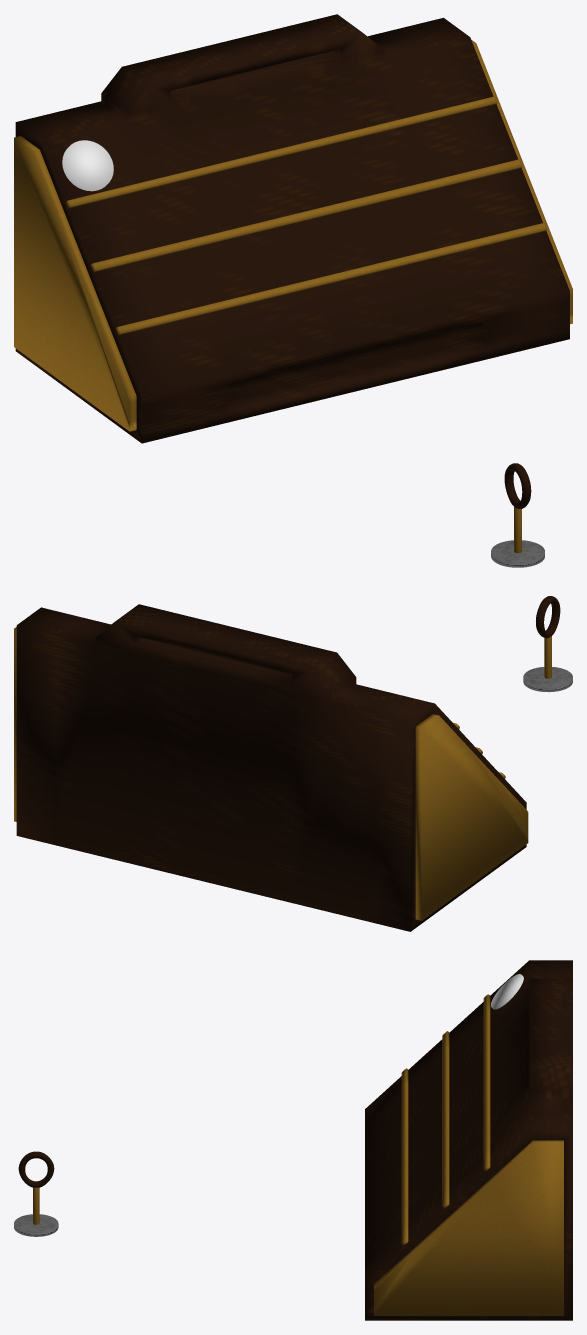
The model's file is Stamp and stampholder2.glb.
The picture shows the model from 3 angles, top to bottom: view 1: azimuth 30°, elevation 25°; view 2: azimuth 150°, elevation 25°; view 3: azimuth 270°, elevation 25°; orthographic projection. The views are drawn at different scales.
Parts seen in each view (by area): view 1: Cube, Cube.002, Cube.001, Cylinder.003, Cube.003, Cylinder, Torus; view 2: Cube, Cube.002, Cylinder, Torus, Cube.003; view 3: Cube, Cube.003, Cube.001, Cylinder, Torus, Cylinder.003.
Boxes of the visible parts, left/top/right/bottom form: Cube: left=15, top=14, right=569, bottom=443; Cube.002: left=14, top=136, right=136, bottom=431; Cube.001: left=66, top=96, right=546, bottom=335; Cylinder.003: left=62, top=140, right=113, bottom=191; Cube.003: left=471, top=39, right=572, bottom=324; Cylinder: left=491, top=540, right=544, bottom=567; Torus: left=504, top=463, right=531, bottom=508; Cube: left=16, top=604, right=526, bottom=931; Cube.002: left=415, top=714, right=528, bottom=920; Cylinder: left=523, top=667, right=572, bottom=692; Torus: left=536, top=596, right=560, bottom=638; Cube.003: left=14, top=627, right=16, bottom=821; Cube: left=365, top=960, right=572, bottom=1320; Cube.003: left=374, top=1140, right=563, bottom=1315; Cube.001: left=401, top=994, right=490, bottom=1245; Cylinder: left=14, top=1214, right=58, bottom=1236; Torus: left=18, top=1151, right=54, bottom=1187; Cylinder.003: left=491, top=974, right=523, bottom=1009.
Size of the model in its own units: 37.8 by 21.83 by 50.14.
3 materials, 3 textured.
